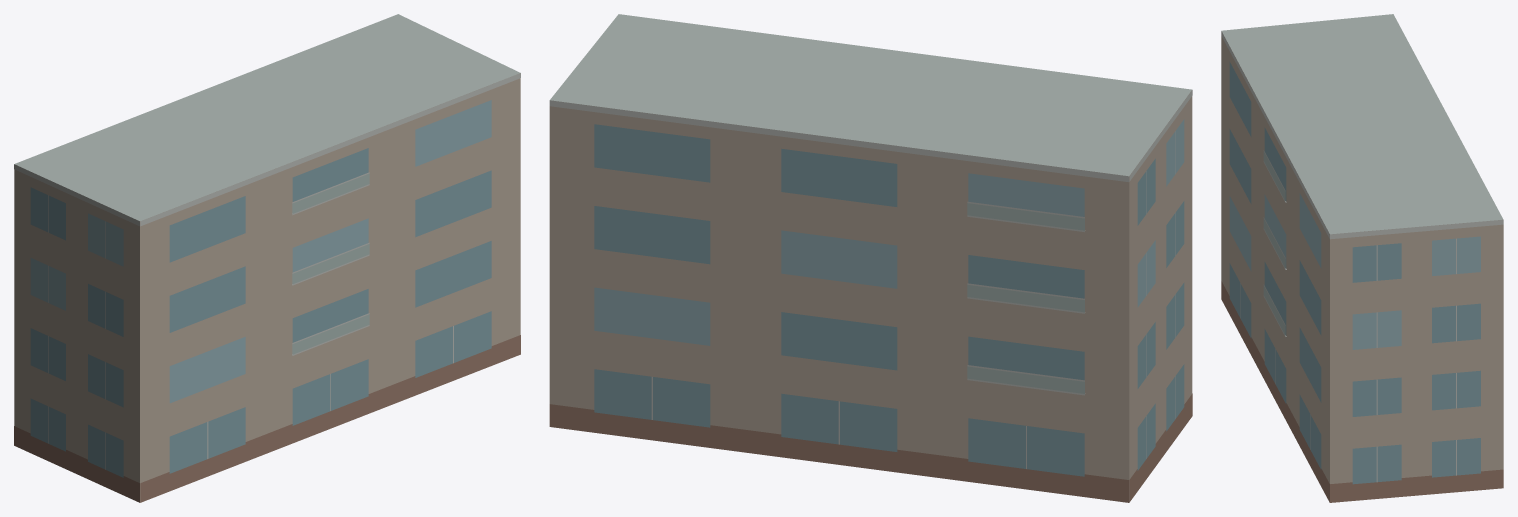
File: survey-upis-32605529.glb
3 views of the same model, side by side, from view 1: azimuth 30°, elevation 25°; view 2: azimuth 150°, elevation 25°; view 3: azimuth 270°, elevation 25° (orthographic). The views are drawn at different scales.
Parts seen in each view (by area): view 1: survey-upis-32605529.tmp; view 2: survey-upis-32605529.tmp; view 3: survey-upis-32605529.tmp.
Part boxes in pixels (x1,y1,x2,y2): survey-upis-32605529.tmp: [14, 14, 520, 502]; survey-upis-32605529.tmp: [549, 14, 1192, 502]; survey-upis-32605529.tmp: [1221, 14, 1503, 502].
Size of the model in its own units: 23.41 by 13.3 by 12.68.
